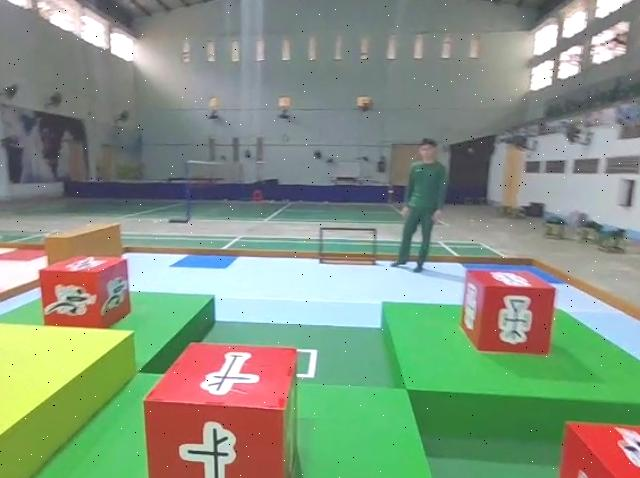R1: (38, 257, 133, 333), (556, 423, 640, 478)
R2 Real: (142, 340, 301, 478), (460, 269, 555, 359)
